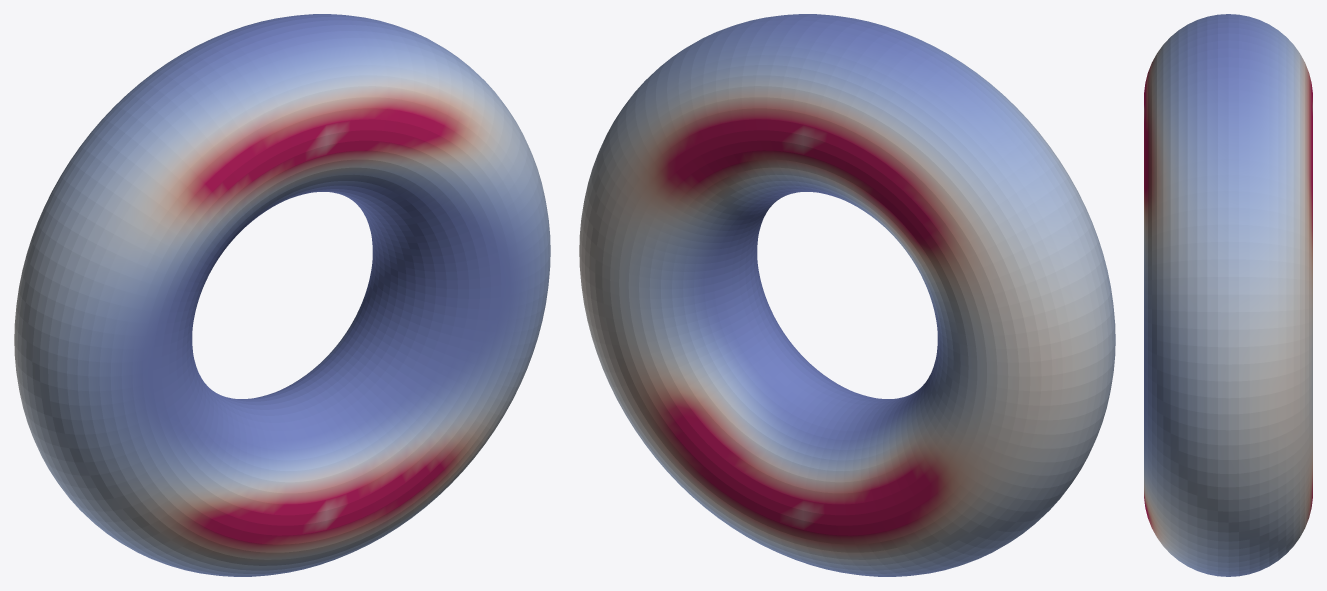
3 views of the same model, side by side, from view 1: azimuth 30°, elevation 25°; view 2: azimuth 150°, elevation 25°; view 3: azimuth 270°, elevation 25° (orthographic). The views are drawn at different scales.
Visible parts, largest first — view 1: world; view 2: world; view 3: world.
Part boxes in pixels (box(x1,y1,x2,y2)): world: box(14, 14, 550, 576); world: box(579, 14, 1115, 576); world: box(1144, 14, 1312, 576).
Bounding box in the file's own units: 19.07 × 19.07 × 5.72.
